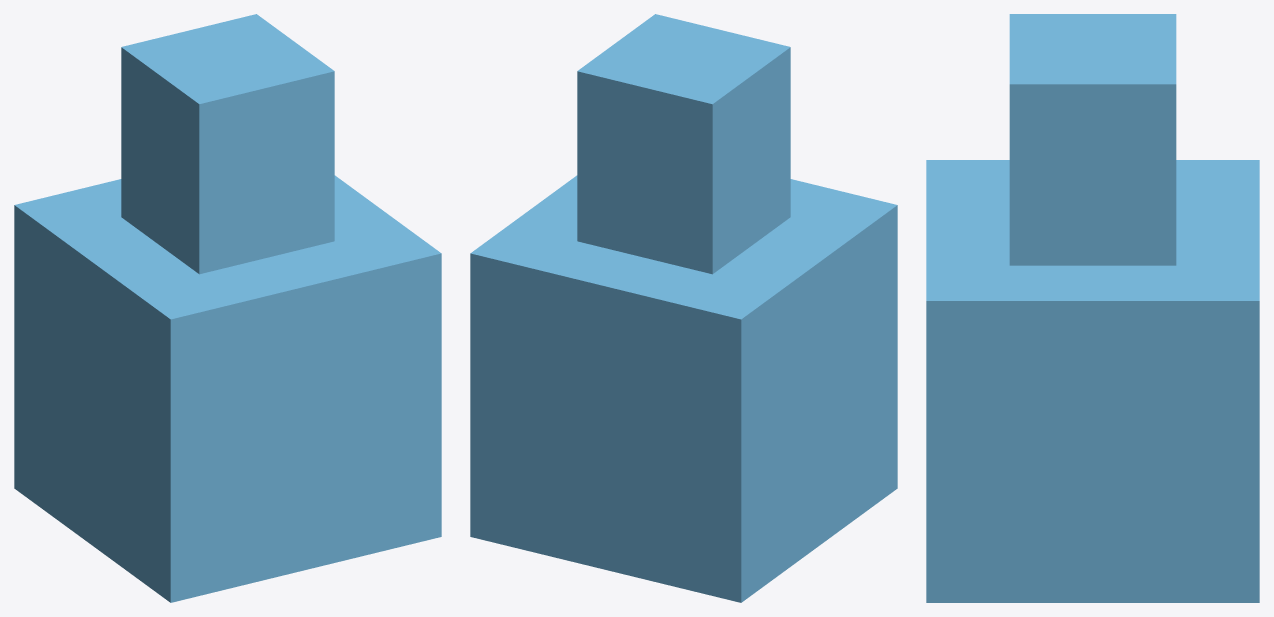
Rendered from fx_sweat.glb.
The picture shows the model from 3 angles, left to right: view 1: azimuth 30°, elevation 25°; view 2: azimuth 150°, elevation 25°; view 3: azimuth 270°, elevation 25°; orthographic projection. The views are drawn at different scales.
Visible parts, largest first — view 1: fx_sweat; view 2: fx_sweat; view 3: fx_sweat.
Part boxes in pixels (x1,y1,x2,y2): fx_sweat: (14, 14, 441, 602); fx_sweat: (470, 14, 897, 602); fx_sweat: (926, 14, 1259, 602).
Bounding box in the file's own units: 0.05 × 0.08 × 0.05.
Materials: 1 (1 with a texture image).
